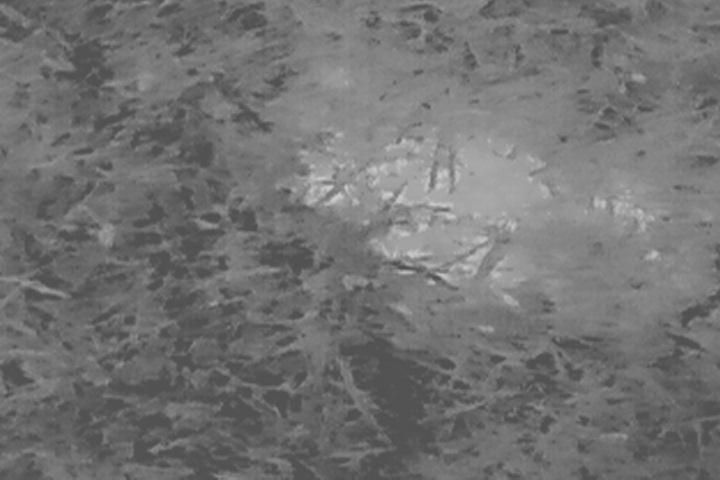landmine: (276, 112, 659, 300)
